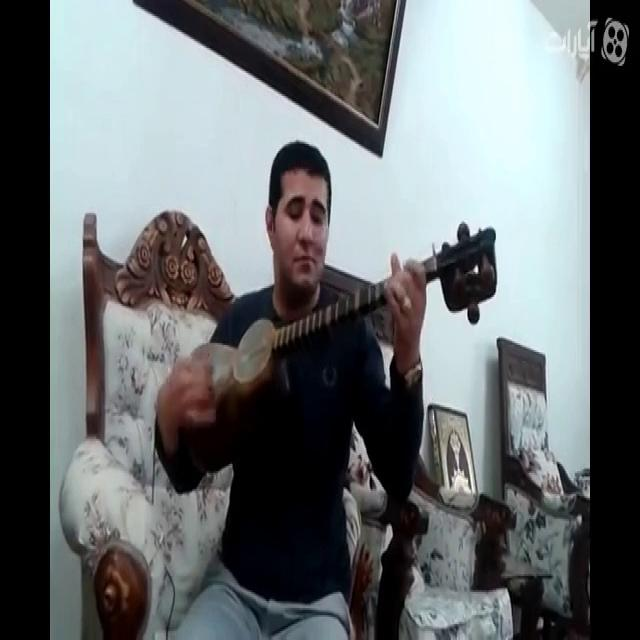Setar: (179, 212, 511, 452)
